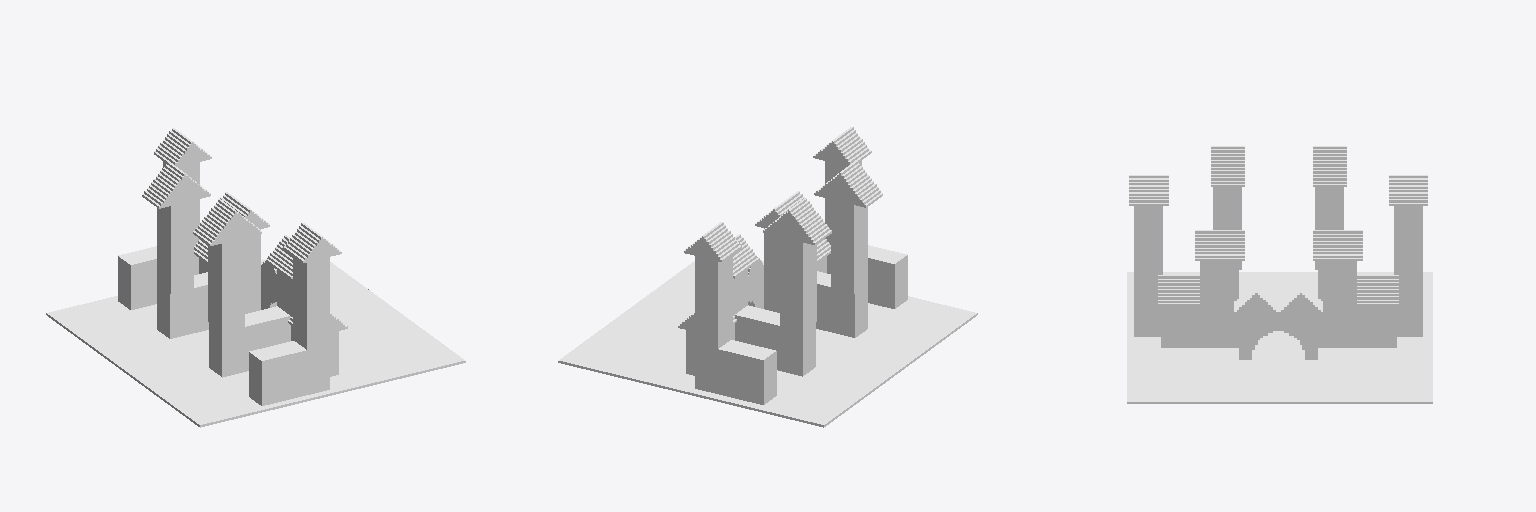
The model's file is fabrica-0.obj.
The picture shows the model from 3 angles: view 1: azimuth 30°, elevation 25°; view 2: azimuth 150°, elevation 25°; view 3: azimuth 270°, elevation 25°; orthographic projection.
Visible parts, largest first — view 1: object 1; view 2: object 1; view 3: object 1.
Boxes of the visible parts, x1=… form: object 1: x1=46, y1=128, x2=465, y2=427; object 1: x1=558, y1=127, x2=977, y2=427; object 1: x1=1127, y1=146, x2=1432, y2=403.
Bounding box in the file's own units: 11.7 × 7 × 11.7.